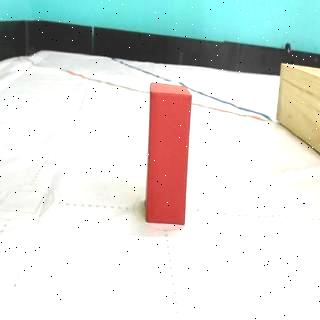redbox: (146, 82, 192, 225)
